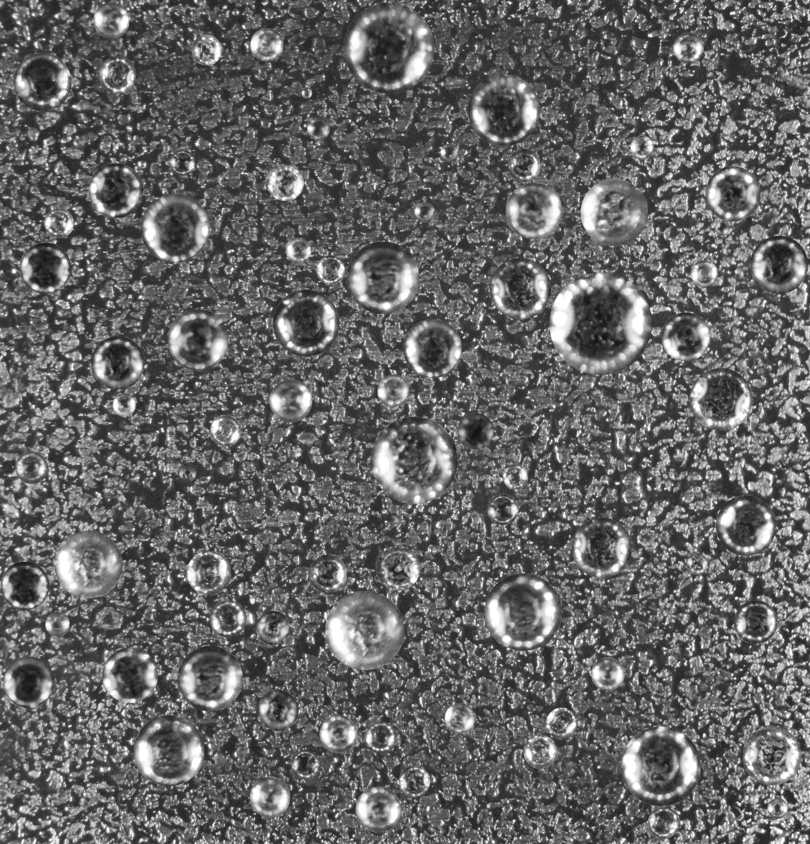Bubble: (549, 272, 651, 374), (343, 2, 434, 93), (370, 416, 457, 503), (621, 726, 700, 806), (325, 591, 404, 670), (484, 573, 561, 650), (346, 241, 419, 313), (468, 74, 539, 145), (133, 715, 204, 786), (140, 193, 209, 262), (54, 530, 122, 598), (580, 178, 647, 245), (272, 289, 339, 356), (177, 646, 242, 711), (690, 368, 752, 430), (489, 258, 551, 319), (167, 309, 228, 370), (716, 495, 776, 555), (571, 517, 631, 577), (742, 726, 801, 785), (403, 319, 461, 377), (750, 235, 808, 293), (13, 53, 71, 110), (505, 182, 562, 239), (102, 647, 157, 703), (705, 166, 760, 221), (88, 163, 143, 217), (91, 336, 144, 389), (19, 242, 70, 293), (3, 656, 54, 707), (661, 312, 710, 361), (0, 561, 49, 610), (355, 786, 401, 832), (376, 546, 420, 590), (186, 551, 230, 595), (734, 600, 777, 643), (269, 379, 312, 422), (249, 776, 290, 817), (257, 690, 298, 730), (309, 554, 347, 592), (209, 600, 246, 637), (319, 715, 356, 752), (98, 56, 135, 93), (266, 163, 303, 200), (93, 2, 129, 38), (457, 413, 493, 449), (256, 611, 290, 644), (523, 735, 557, 768), (591, 657, 624, 690), (250, 28, 283, 61), (507, 148, 540, 181), (15, 451, 47, 483), (377, 374, 409, 406), (364, 721, 396, 753), (398, 766, 430, 797), (546, 707, 577, 739), (487, 494, 518, 525), (648, 807, 679, 838), (210, 415, 241, 446), (673, 32, 703, 63), (444, 703, 475, 733), (191, 35, 221, 65), (44, 208, 73, 237), (316, 255, 344, 284), (291, 751, 319, 779), (691, 260, 717, 287), (169, 149, 195, 175), (502, 464, 528, 489), (285, 237, 310, 262), (45, 612, 69, 636), (630, 135, 653, 158), (112, 393, 135, 416), (307, 117, 329, 139), (686, 553, 707, 574), (767, 798, 788, 818), (414, 202, 434, 222), (177, 463, 196, 482), (440, 143, 458, 161), (715, 220, 729, 235), (301, 87, 312, 98)
